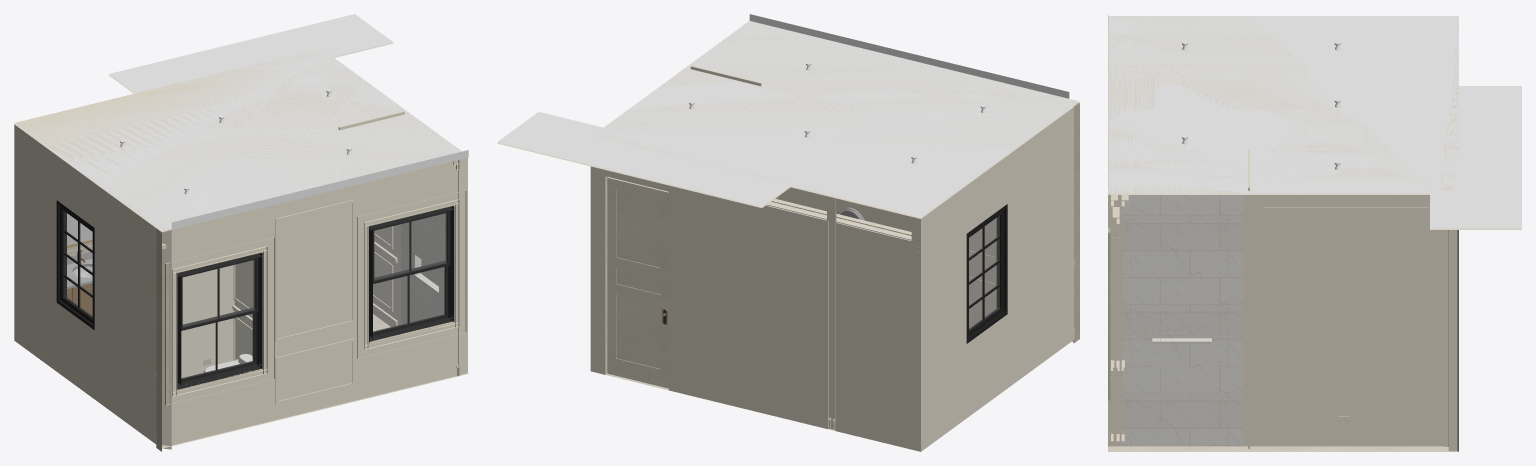
File: primary-bath-259a95e1d095.glb
3 views of the same model, side by side, from view 1: azimuth 30°, elevation 25°; view 2: azimuth 150°, elevation 25°; view 3: azimuth 270°, elevation 25° (orthographic). The views are drawn at different scales.
Parts seen in each view (by area): view 1: primary-bath-9d91b47435c6fb33, primary-bath-b0ade14315e4f1c3, primary-bath-c51ecd664a3b22a3, primary-bath-e8793759323e04f0, primary-bath-60f0db96f832035a, primary-bath-b5cb73c07919def8, primary-bath-look-9d91b47435c6fb33, primary-bath-10eba734bfa580f9, primary-bath-20932135983111ad, primary-bath-62353aa10fc57f23, primary-bath-696f63e7cd8f31cf, primary-bath-2bc0761cc32b9613 (+9 smaller); view 2: primary-bath-9ecc0d558be1c706, primary-bath-9d91b47435c6fb33, primary-bath-c51ecd664a3b22a3, primary-bath-e8793759323e04f0, primary-bath-18f70a4a9eda5dac, primary-bath-look-9d91b47435c6fb33, primary-bath-20932135983111ad, primary-bath-25ea03c5717987c5, primary-bath-e48b5483df8cacdb, primary-bath-b88ac105ef7c3bdb, primary-bath-62353aa10fc57f23, primary-bath-1a6c50e4c3accb7b (+2 smaller); view 3: primary-bath-9d91b47435c6fb33, primary-bath-fc6585fecfaf7ec3, primary-bath-e8793759323e04f0, primary-bath-3d8660a29b1e398e, primary-bath-2bc0761cc32b9613, primary-bath-look-9d91b47435c6fb33, primary-bath-c791a0f218fead78, primary-bath-9ecc0d558be1c706, primary-bath-343da8f45fc39332, primary-bath-b3921aced1f99593, primary-bath-b3dc771ed6f89851, primary-bath-38b306e83be12a4b (+8 smaller).
Part boxes in pixels (x1,y1,x2,y2): primary-bath-9d91b47435c6fb33: [18, 48, 468, 232]; primary-bath-b0ade14315e4f1c3: [171, 157, 467, 445]; primary-bath-c51ecd664a3b22a3: [14, 124, 156, 444]; primary-bath-e8793759323e04f0: [14, 51, 468, 229]; primary-bath-60f0db96f832035a: [177, 252, 262, 389]; primary-bath-b5cb73c07919def8: [369, 206, 454, 342]; primary-bath-look-9d91b47435c6fb33: [109, 14, 393, 93]; primary-bath-10eba734bfa580f9: [184, 265, 234, 377]; primary-bath-20932135983111ad: [56, 200, 94, 329]; primary-bath-62353aa10fc57f23: [156, 228, 171, 451]; primary-bath-696f63e7cd8f31cf: [172, 246, 267, 396]; primary-bath-2bc0761cc32b9613: [401, 244, 444, 324]; primary-bath-9ecc0d558be1c706: [590, 166, 919, 451]; primary-bath-9d91b47435c6fb33: [591, 21, 1079, 218]; primary-bath-c51ecd664a3b22a3: [911, 107, 1073, 451]; primary-bath-e8793759323e04f0: [595, 14, 1077, 210]; primary-bath-18f70a4a9eda5dac: [607, 177, 668, 388]; primary-bath-look-9d91b47435c6fb33: [497, 112, 790, 207]; primary-bath-20932135983111ad: [966, 204, 1007, 343]; primary-bath-25ea03c5717987c5: [969, 218, 996, 328]; primary-bath-e48b5483df8cacdb: [827, 196, 836, 430]; primary-bath-b88ac105ef7c3bdb: [603, 174, 669, 390]; primary-bath-62353aa10fc57f23: [1072, 103, 1079, 342]; primary-bath-1a6c50e4c3accb7b: [777, 187, 879, 224]; primary-bath-9d91b47435c6fb33: [1108, 16, 1458, 194]; primary-bath-fc6585fecfaf7ec3: [1248, 193, 1458, 451]; primary-bath-e8793759323e04f0: [1108, 14, 1458, 193]; primary-bath-3d8660a29b1e398e: [1121, 195, 1242, 324]; primary-bath-2bc0761cc32b9613: [1121, 338, 1242, 446]; primary-bath-look-9d91b47435c6fb33: [1430, 86, 1521, 229]; primary-bath-c791a0f218fead78: [1108, 189, 1247, 451]; primary-bath-9ecc0d558be1c706: [1447, 230, 1458, 451]; primary-bath-343da8f45fc39332: [1253, 434, 1439, 446]; primary-bath-b3921aced1f99593: [1108, 446, 1457, 451]; primary-bath-b3dc771ed6f89851: [1264, 207, 1428, 352]; primary-bath-38b306e83be12a4b: [1121, 324, 1242, 338].
Bounding box in the file's own units: 5.14 × 3.04 × 4.23.
38 materials, 8 textured.
